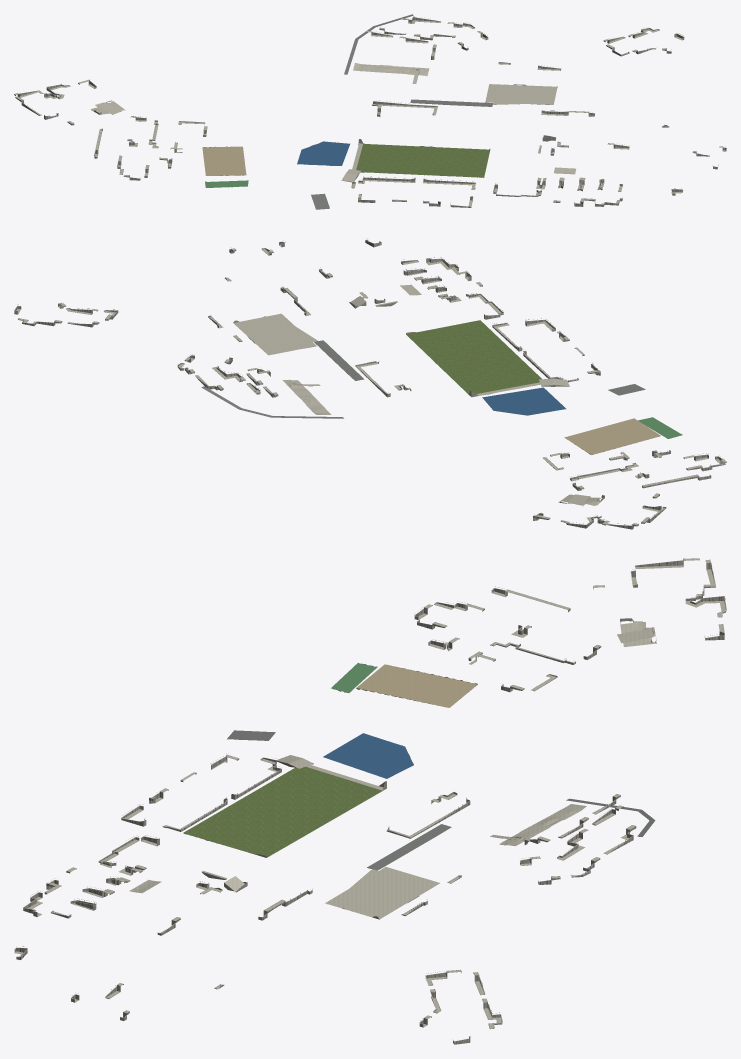
The picture shows the model from 3 angles, top to bottom: view 1: azimuth 30°, elevation 25°; view 2: azimuth 150°, elevation 25°; view 3: azimuth 270°, elevation 25°; orthographic projection. The views are drawn at different scales.
Visible parts, largest first — view 1: kookmin-paving (×2), kookmin-pitchTurf, kookmin-stonebank, kookmin-dirtField, kookmin-courtBlue, kookmin-asphalt, apron-coping, library-front-court-paving__edgeClosure; view 2: kookmin-paving (×2), kookmin-pitchTurf, kookmin-stonebank, kookmin-dirtField, kookmin-courtBlue, kookmin-asphalt, apron-coping; view 3: kookmin-paving (×2), kookmin-pitchTurf, kookmin-stonebank, kookmin-dirtField, kookmin-courtBlue, apron-coping, kookmin-asphalt.
Part boxes in pixels (bbox=[...]): kookmin-paving (×2): bbox=[14, 18, 726, 206]; kookmin-pitchTurf: bbox=[356, 144, 489, 177]; kookmin-stonebank: bbox=[14, 17, 726, 207]; kookmin-dirtField: bbox=[202, 146, 246, 175]; kookmin-courtBlue: bbox=[297, 141, 349, 165]; kookmin-asphalt: bbox=[311, 14, 492, 209]; apron-coping: bbox=[20, 17, 726, 206]; library-front-court-paving__edgeClosure: bbox=[94, 69, 557, 187]; kookmin-paving (×2): bbox=[16, 244, 726, 525]; kookmin-pitchTurf: bbox=[406, 320, 541, 394]; kookmin-stonebank: bbox=[14, 240, 726, 529]; kookmin-dirtField: bbox=[564, 418, 660, 454]; kookmin-courtBlue: bbox=[482, 387, 565, 415]; kookmin-asphalt: bbox=[201, 340, 645, 418]; apron-coping: bbox=[14, 239, 725, 525]; kookmin-paving (×2): bbox=[15, 558, 725, 1028]; kookmin-pitchTurf: bbox=[183, 766, 381, 856]; kookmin-stonebank: bbox=[14, 558, 726, 1044]; kookmin-dirtField: bbox=[356, 664, 477, 707]; kookmin-courtBlue: bbox=[323, 733, 413, 778]; apron-coping: bbox=[14, 560, 726, 1041]; kookmin-asphalt: bbox=[227, 730, 655, 870].
Bounding box in the file's own units: 570 × 46.33 × 387.
12 materials, 6 textured.
